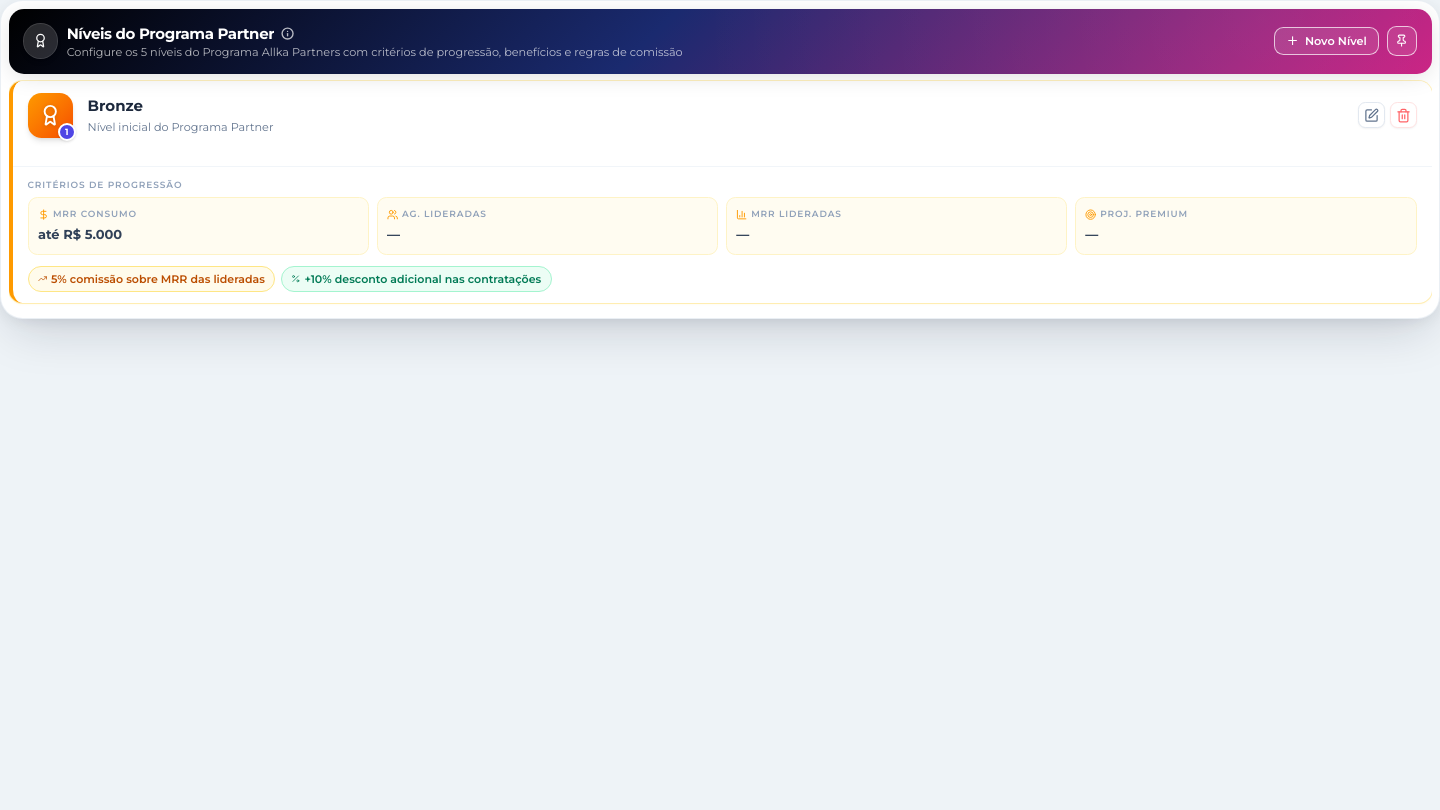
Admin > Níveis — exclusão de nível (confirmação dupla) › confirmação final chama a API uma única vez e remove da lista só após sucesso
The image size is (1440, 810).
What coordinates should you click on to do the following:
click the button named "excluir nível"
I would click on:
 (1403, 115)
Its box is [1390,102,1417,128].
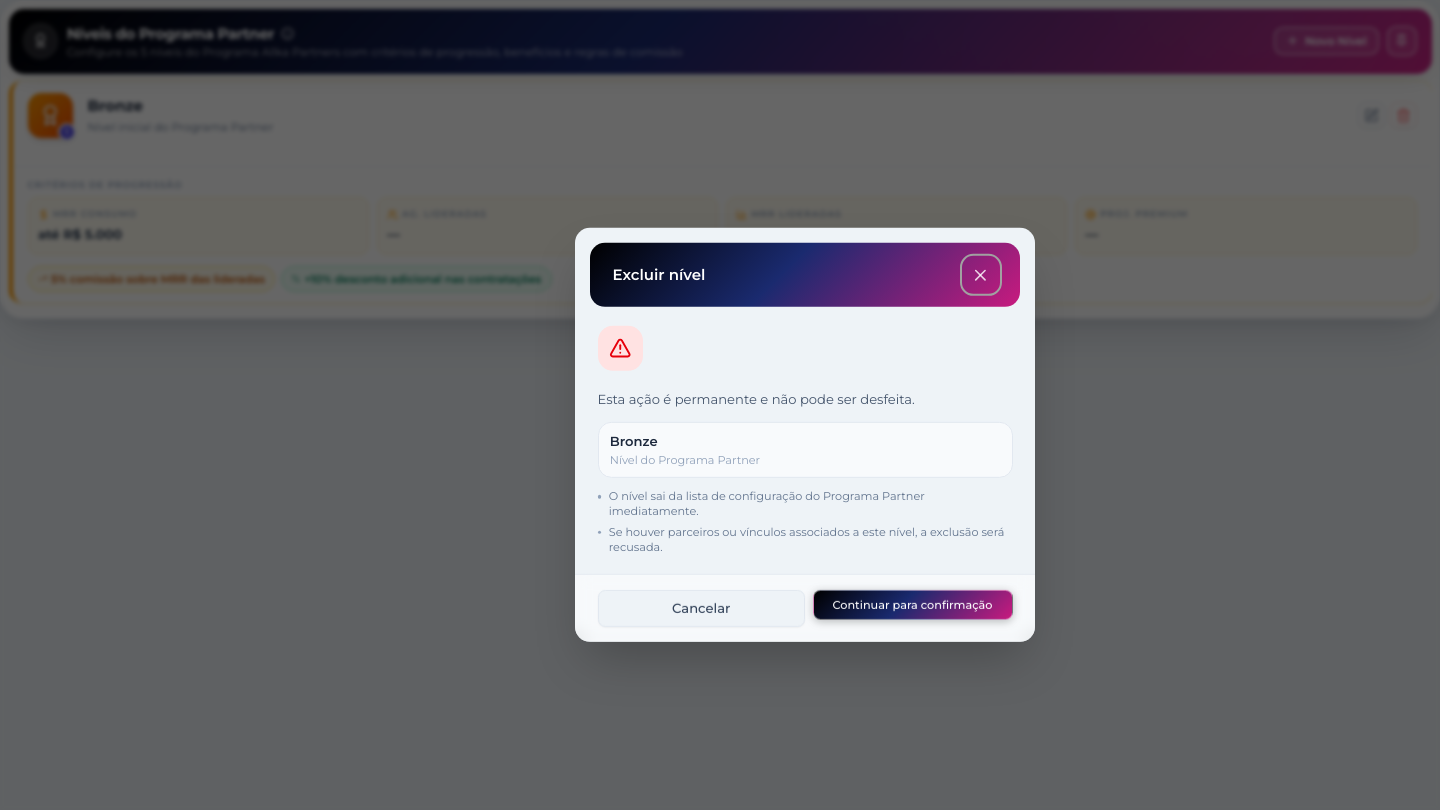
What coordinates should you click on to do the following:
click the button "Continuar para confirmação"
I would click on:
 (912, 605)
Its box is [812,590,1012,620].
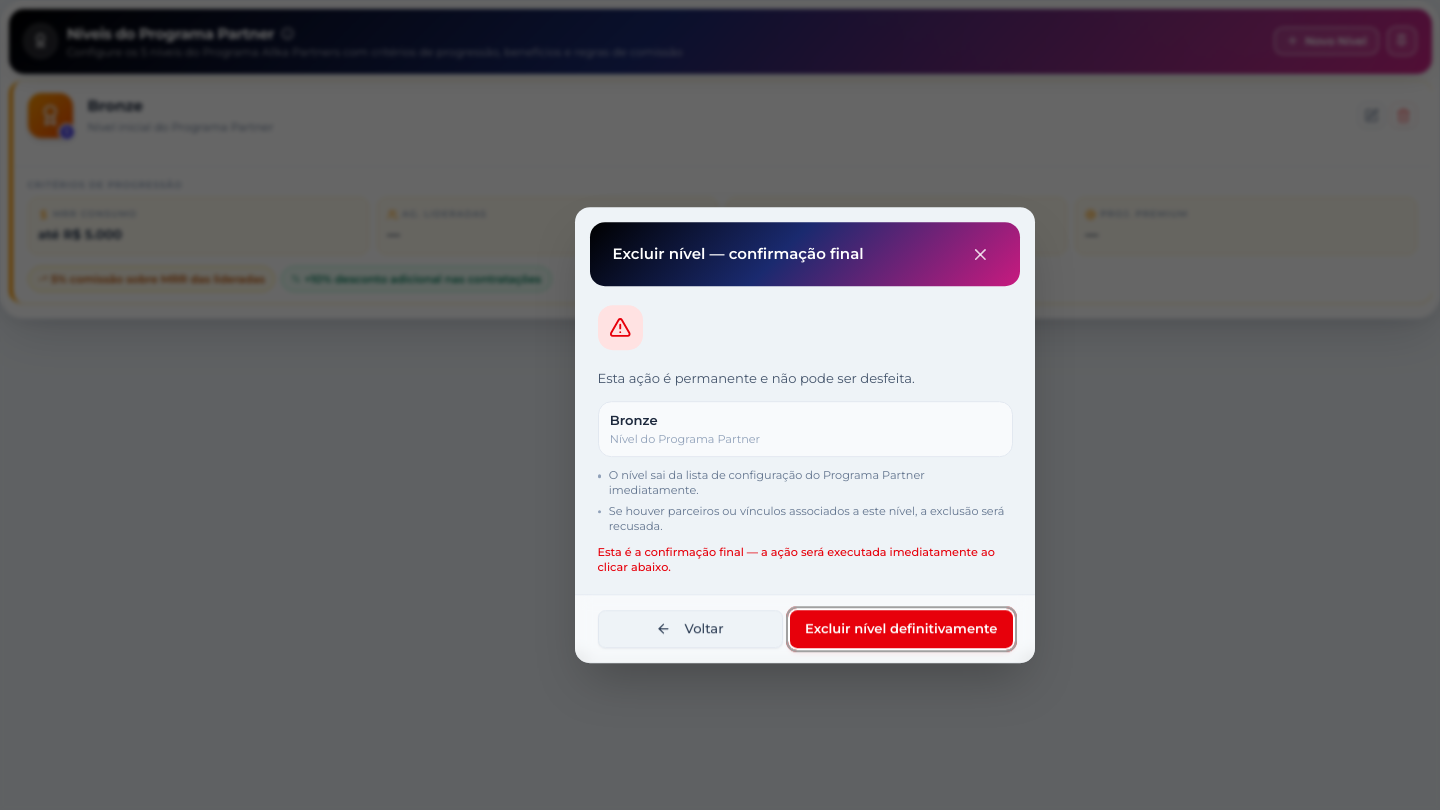
Expected: the heading "Bronze" is shown, [88,95,143,118]
What coordinates should you click on to do the following:
click the button "Excluir nível definitivamente"
I would click on:
 (901, 629)
Its box is [790,610,1012,648].
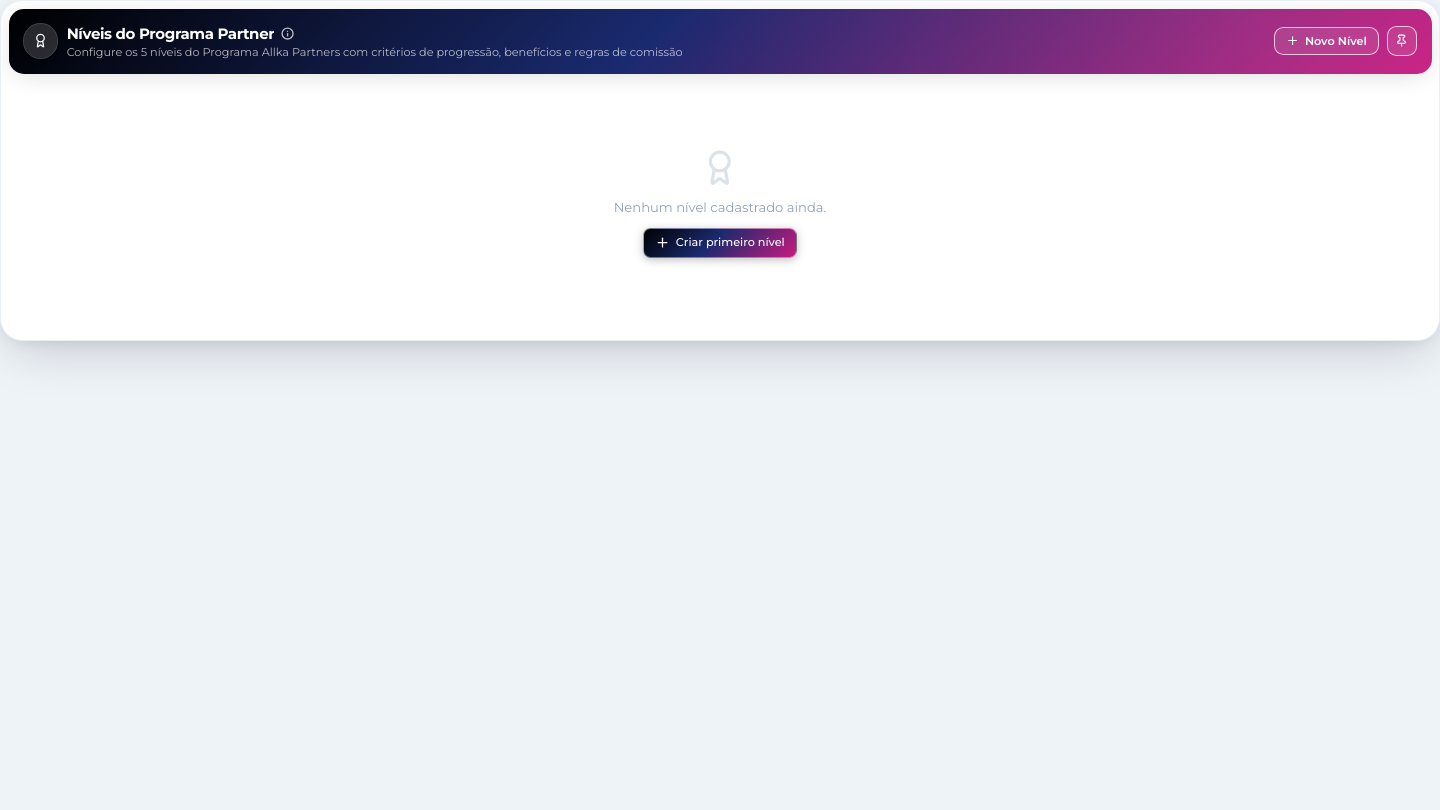
Expected: the heading "Bronze" is gone
